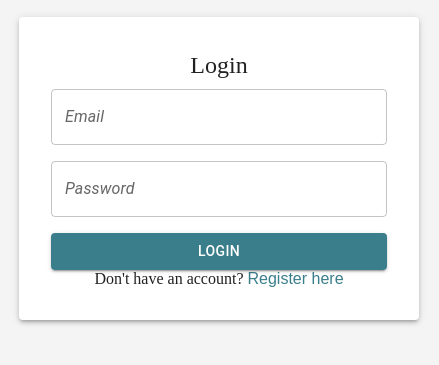
LoginForm Component › shows error when incorrect password is provided
Type "validemail@example.com" into the field labelled "Email" at (219, 117), box 51,89 -> 387,145
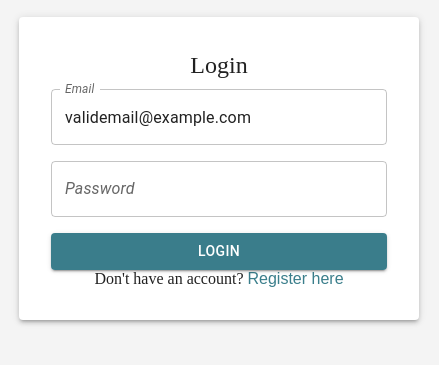
Type "incorrectpassword" into the password field labelled "Password" at (219, 189), box 51,161 -> 387,217
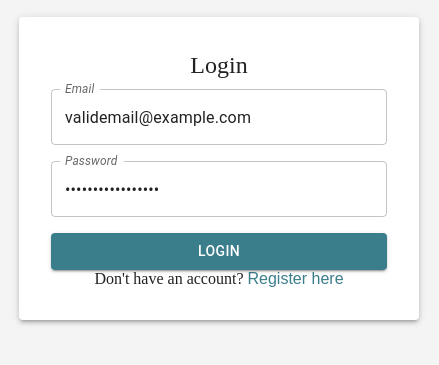
Click the button "Login" at (219, 252), box 51,233 -> 387,270
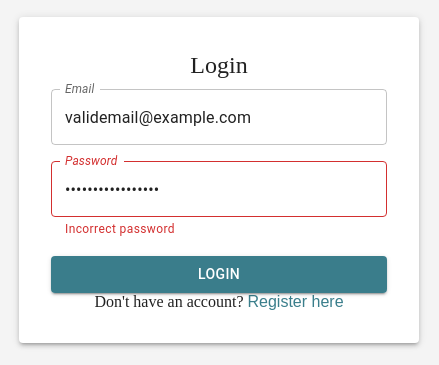
Expected: the text "Incorrect password" is shown, 65,222 -> 175,236
